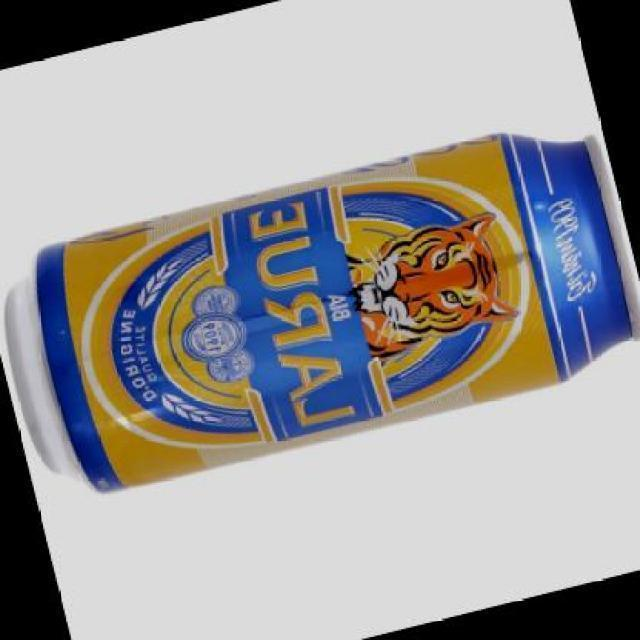can: (2, 130, 640, 497)
